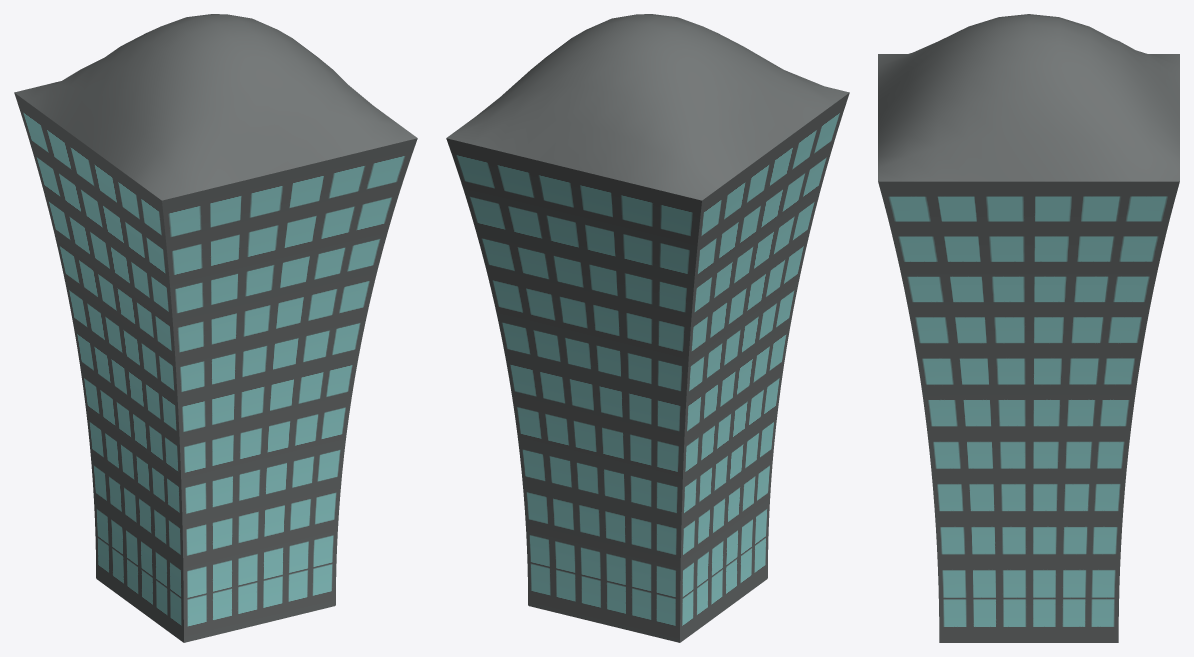
Rendered from Building.fbx.
The picture shows the model from 3 angles, left to right: view 1: azimuth 30°, elevation 25°; view 2: azimuth 150°, elevation 25°; view 3: azimuth 270°, elevation 25°; orthographic projection. The views are drawn at different scales.
Parts seen in each view (by area): view 1: BuildingGEO; view 2: BuildingGEO; view 3: BuildingGEO.
Part boxes in pixels (x1,y1,x2,y2): BuildingGEO: [14, 14, 417, 642]; BuildingGEO: [446, 14, 849, 642]; BuildingGEO: [878, 14, 1179, 642].
Bounding box in the file's own units: 16.84 × 35.73 × 16.84.
